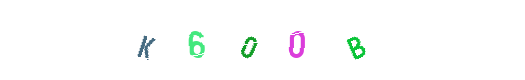0: (257, 0, 337, 80)
6: (173, 0, 253, 80)
B: (269, 0, 349, 80)
K: (105, 0, 185, 80)
O: (222, 0, 302, 80)
